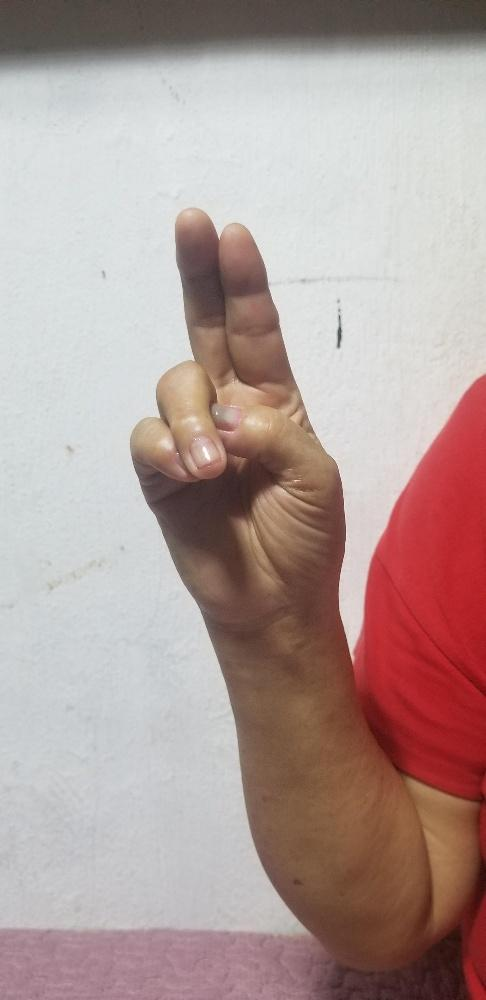r: (125, 205, 345, 625)
